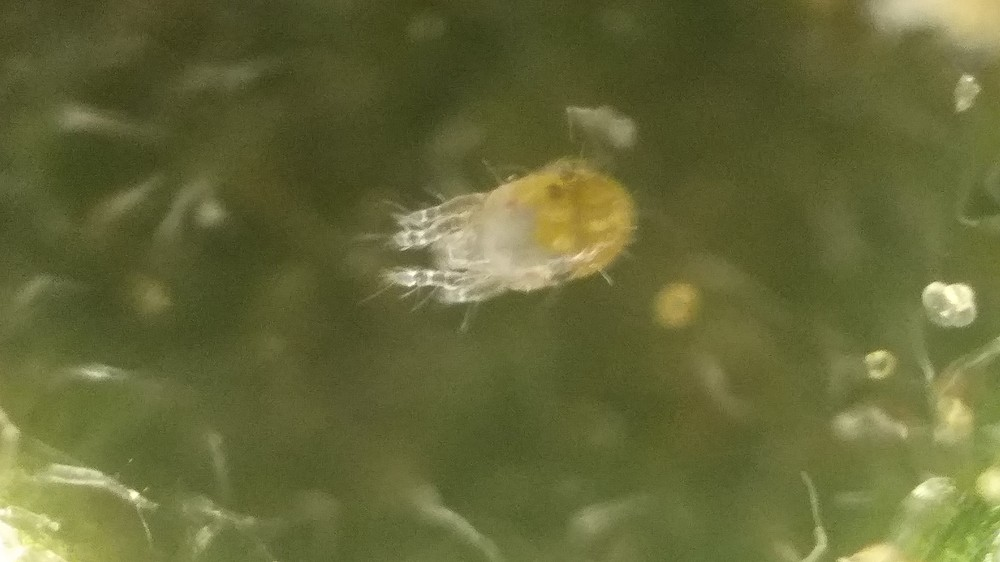Aracnido Rojo: (347, 131, 659, 352)
